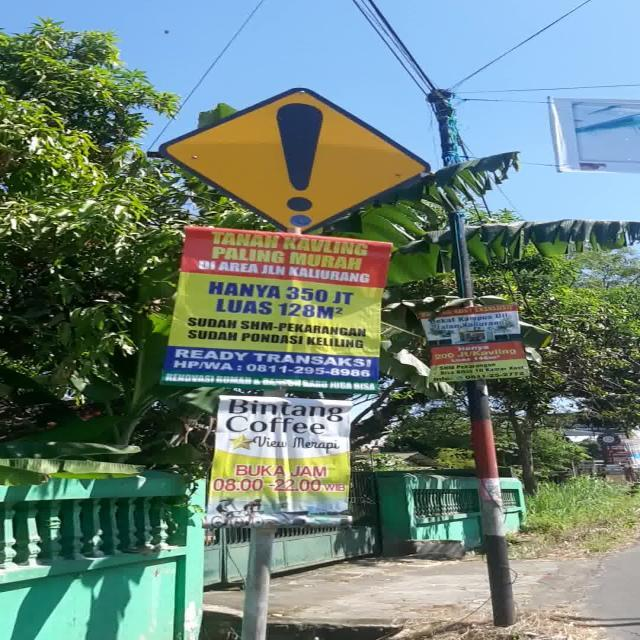Hati-Hati: (157, 87, 430, 233)
